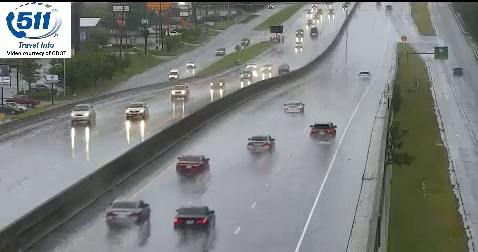car: (106, 200, 150, 226), (174, 206, 215, 232), (176, 155, 209, 175), (247, 135, 275, 154), (310, 122, 336, 141), (284, 101, 304, 114)
